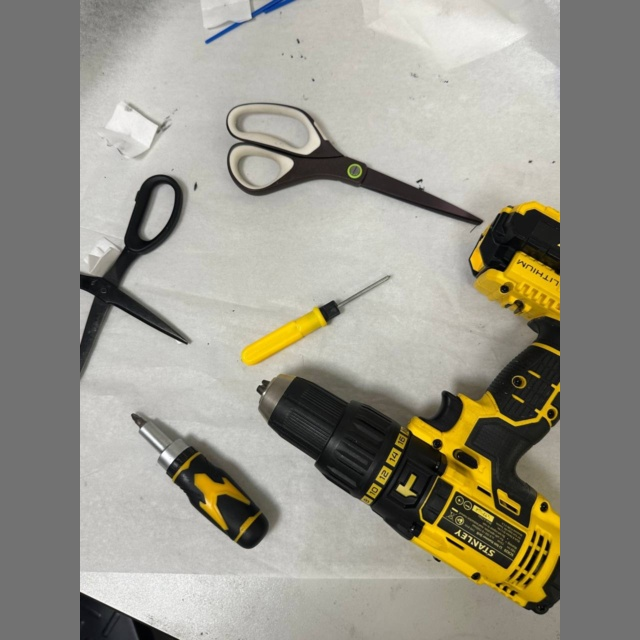drill: (258, 205, 560, 618)
scissor: (227, 103, 482, 225), (80, 174, 190, 377)
screwdriver: (132, 413, 269, 549), (241, 276, 389, 366)
